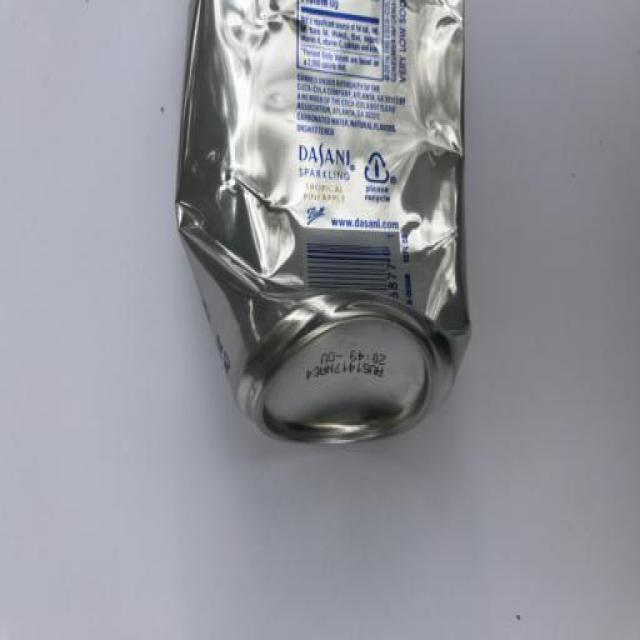metel: (138, 1, 567, 508)
